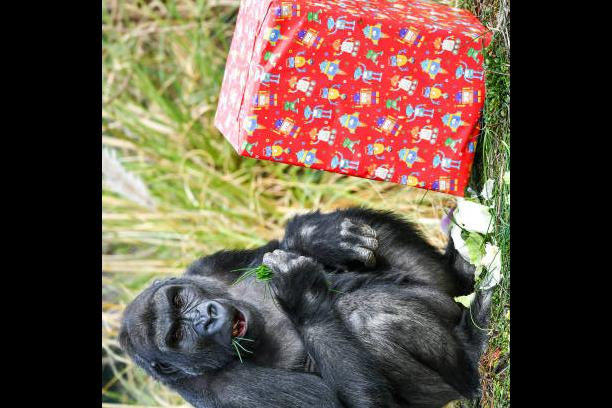gorille_Autres: (114, 202, 478, 408)
